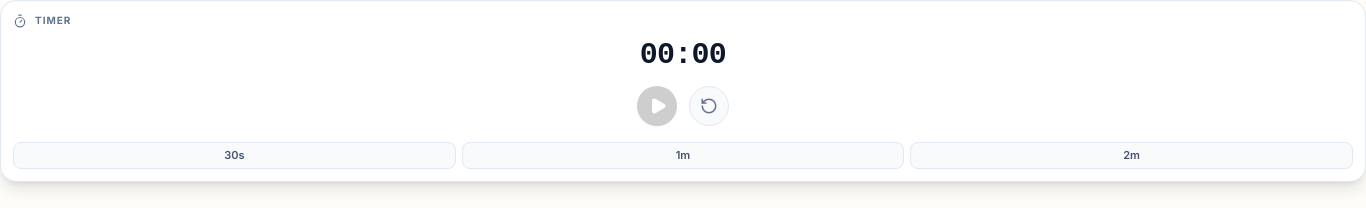
Test: TimerWidget › sets correct time when preset button is clicked
Click the button named "1 minute".
click(683, 155)  # box [462,142,904,168]
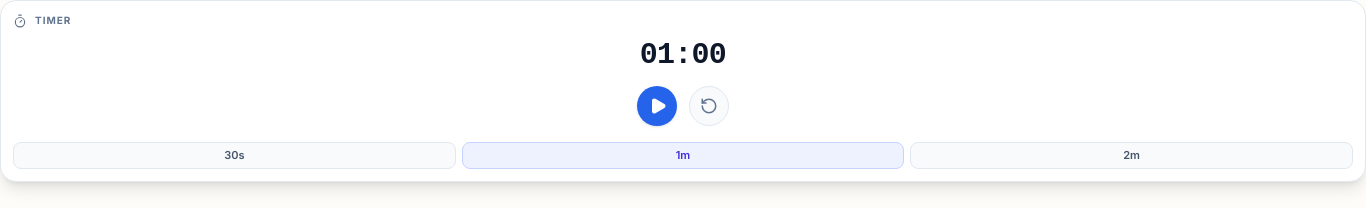
Result: the text "01:00" is shown at [640,38,726,72]
